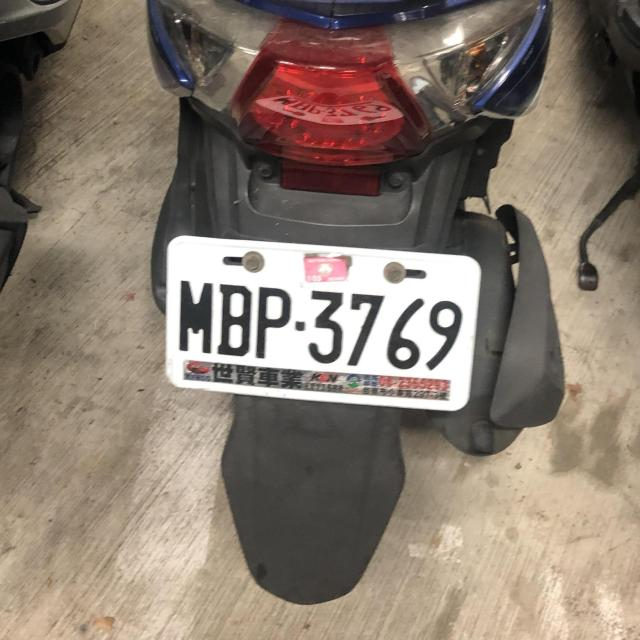W: (152, 231, 483, 409)
